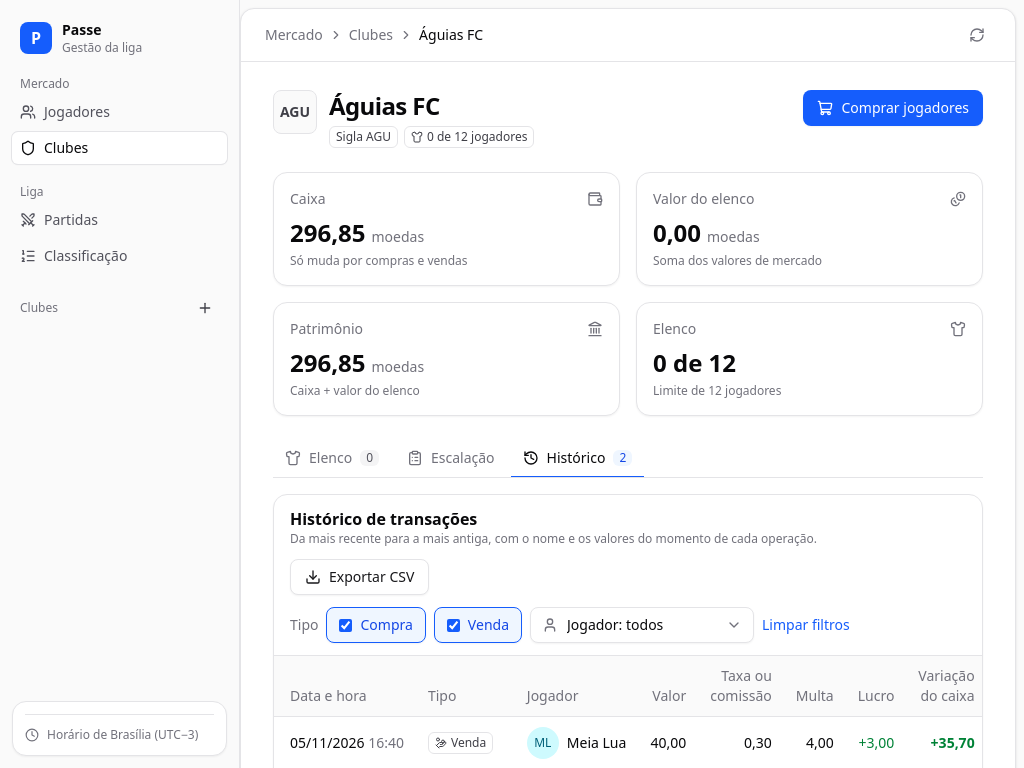
it: Exportar CSV › mostra o message da API quando a exportação é recusada
Click the button "Exportar CSV". click: (360, 577)
box: top-left (290, 559), bottom-right (429, 595)
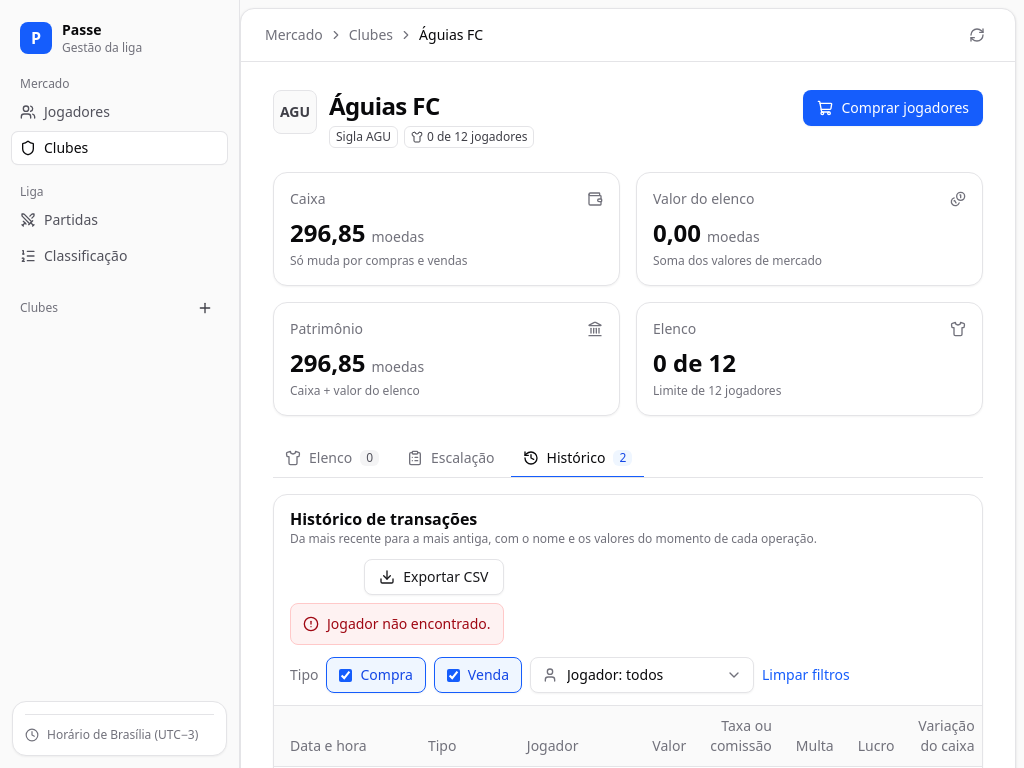
Now the message reads "Jogador não encontrado.", box top-left (327, 614), bottom-right (490, 633)
